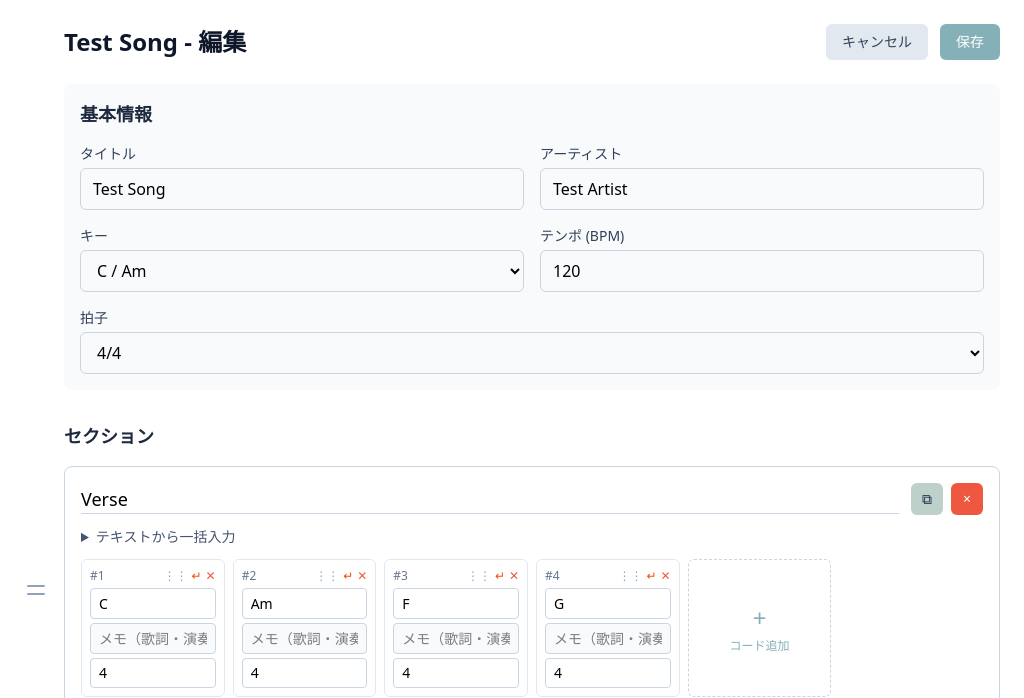
Test: ChordChartEditor › バリデーション機能 › 空のコード名でバリデーションエラーを表示する
コード名を空にする
Clear the 2nd field with placeholder "コード名" at (153, 604), box 90,588 -> 216,619
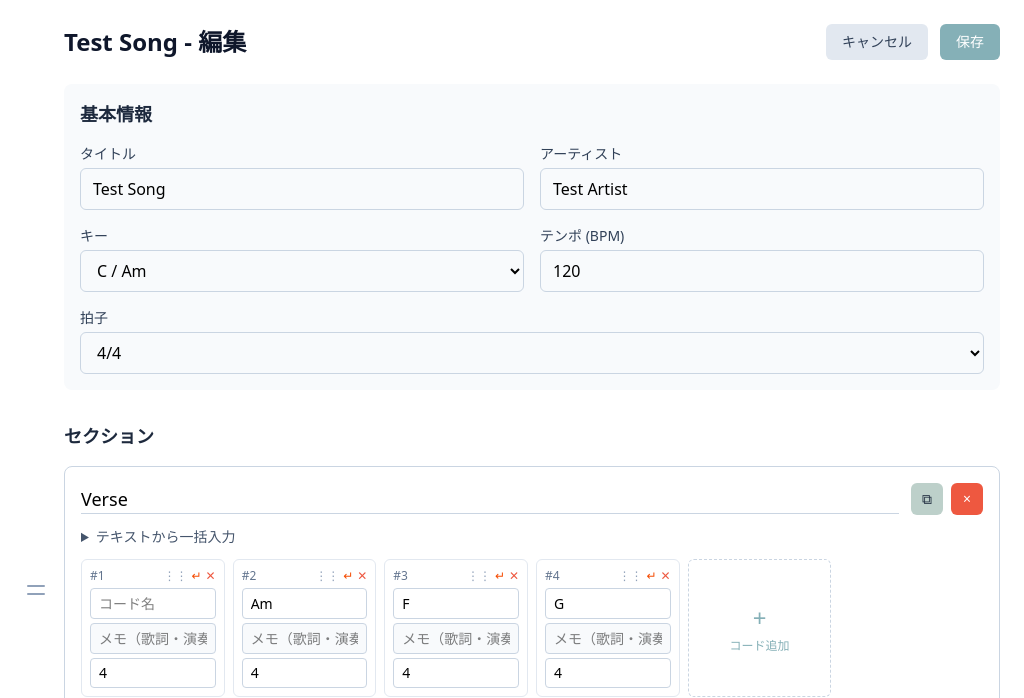
保存ボタンをクリック
Click the button with test id "editor-save-button" at (970, 42), box 940,24 -> 1000,60
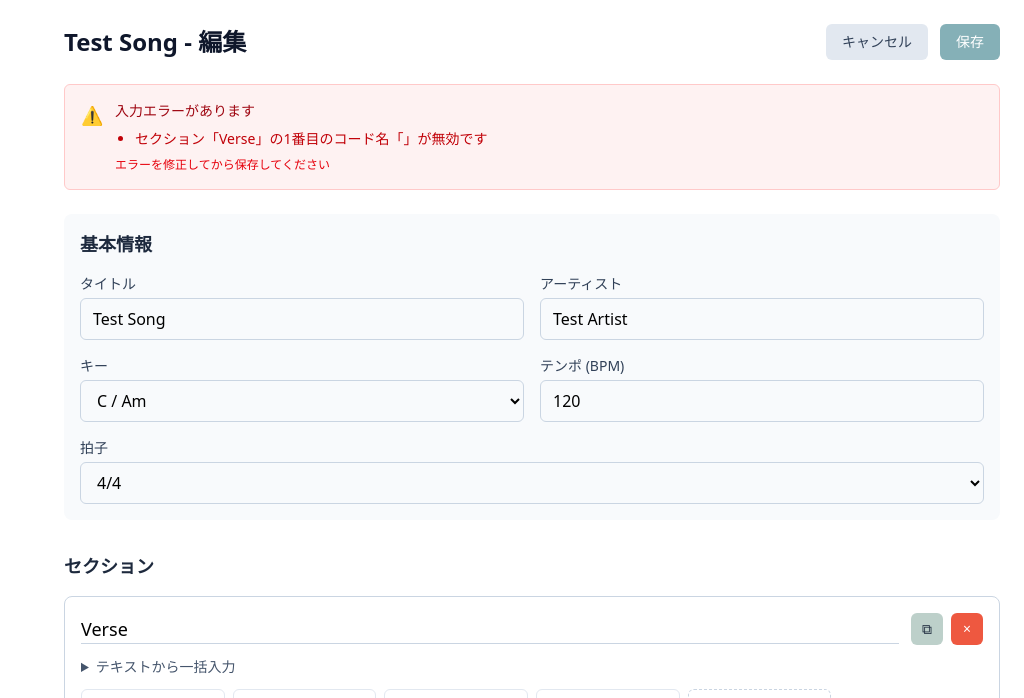
Expected: the heading "入力エラーがあります" is shown, 115,101 -> 255,120
Expected: the list item "セクション「Verse」の1番目のコード名「」が無効です" is shown, 135,129 -> 487,149
